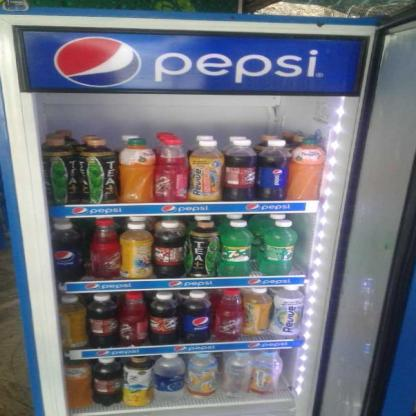7up-chai: (262, 218, 296, 277), (218, 220, 253, 277)
aquafina: (152, 353, 184, 401)
goodmood: (183, 352, 219, 397), (251, 350, 285, 393), (221, 352, 248, 403)
mirinda-xaxi-chai: (223, 136, 257, 200), (151, 220, 187, 279), (86, 290, 120, 348), (146, 290, 177, 344), (91, 358, 123, 402)
olong-tea: (73, 137, 120, 201), (35, 133, 75, 204), (185, 219, 219, 276)
olong-teaplus: (120, 356, 154, 407)
pepsi-blue-chai: (256, 136, 290, 201), (47, 222, 82, 282), (179, 290, 211, 341)
revive-chanhmuoi-chai: (190, 137, 223, 202), (119, 217, 152, 278), (55, 293, 89, 347), (242, 286, 269, 336)
revive-white-chai: (271, 285, 303, 336)
string-red-chai: (154, 138, 190, 201), (86, 217, 120, 278), (212, 287, 245, 343), (118, 290, 147, 345)
twister-cam: (116, 136, 156, 202), (288, 136, 323, 201), (58, 359, 93, 411)
